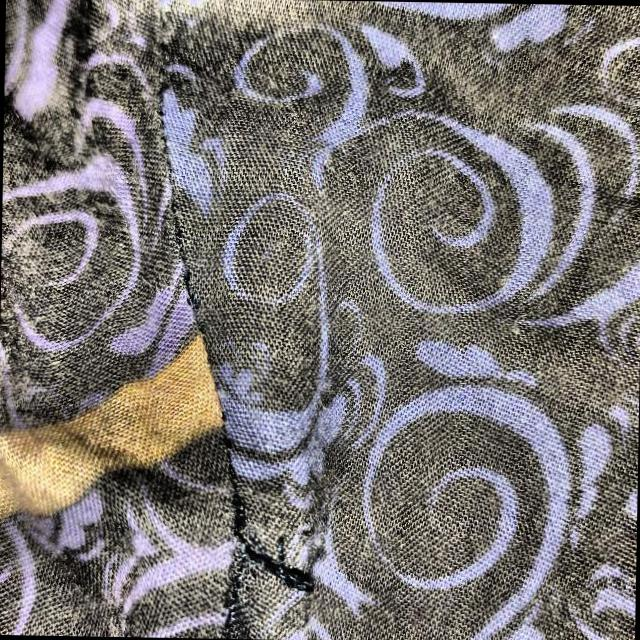gray stitch: (202, 481, 343, 606)
